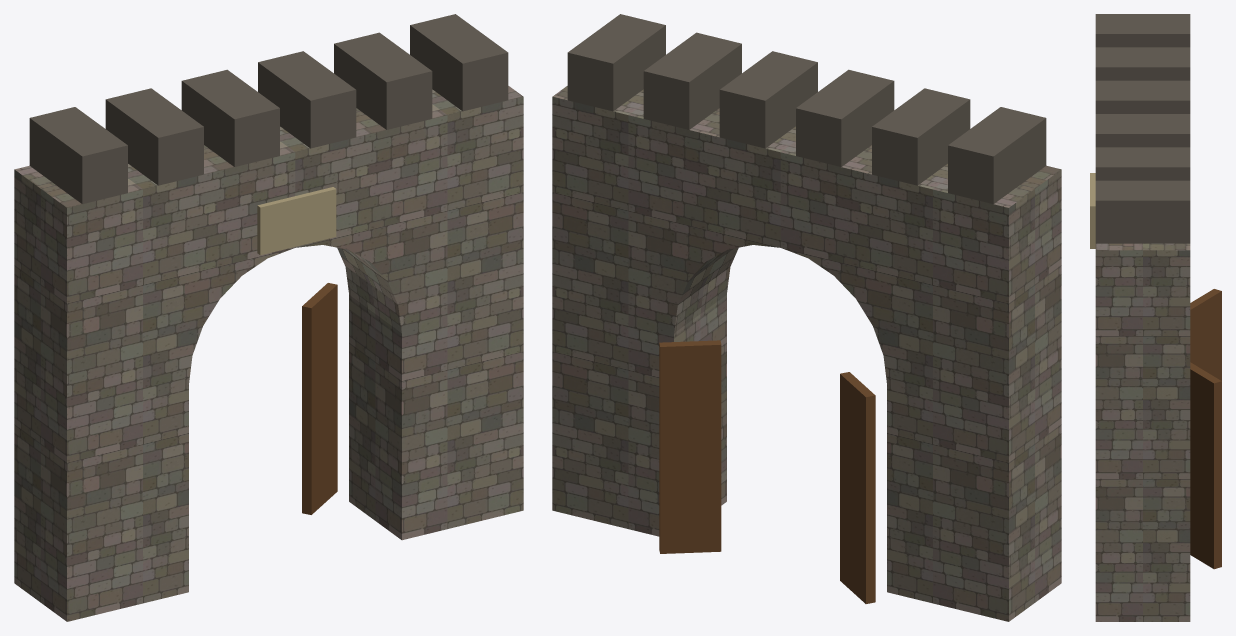
The model's file is village_gate.glb.
3 renders of one model, left to right at view 1: azimuth 30°, elevation 25°; view 2: azimuth 150°, elevation 25°; view 3: azimuth 270°, elevation 25°, orthographic. The views are drawn at different scales.
Visible parts, largest first — view 1: Village_Gate; view 2: Village_Gate; view 3: Village_Gate.
Boxes of the visible parts, bbox=[...] form: Village_Gate: bbox=[14, 14, 523, 621]; Village_Gate: bbox=[552, 14, 1061, 621]; Village_Gate: bbox=[1090, 14, 1221, 621].
Size of the model in its own units: 6 by 5.8 by 1.67.
Materials: 3 (3 with a texture image).
